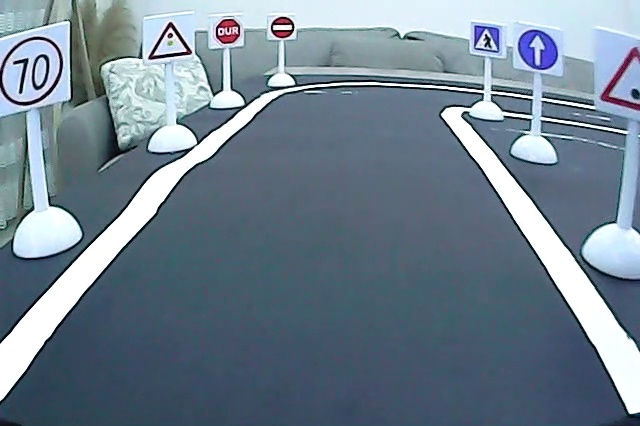do not enter: (269, 14, 296, 39)
green light: (596, 41, 640, 114)
pedestrian crossing: (471, 23, 503, 57)
red light: (146, 19, 195, 61)
speed limit 70: (1, 34, 67, 111)
stop sign: (211, 14, 243, 47)
